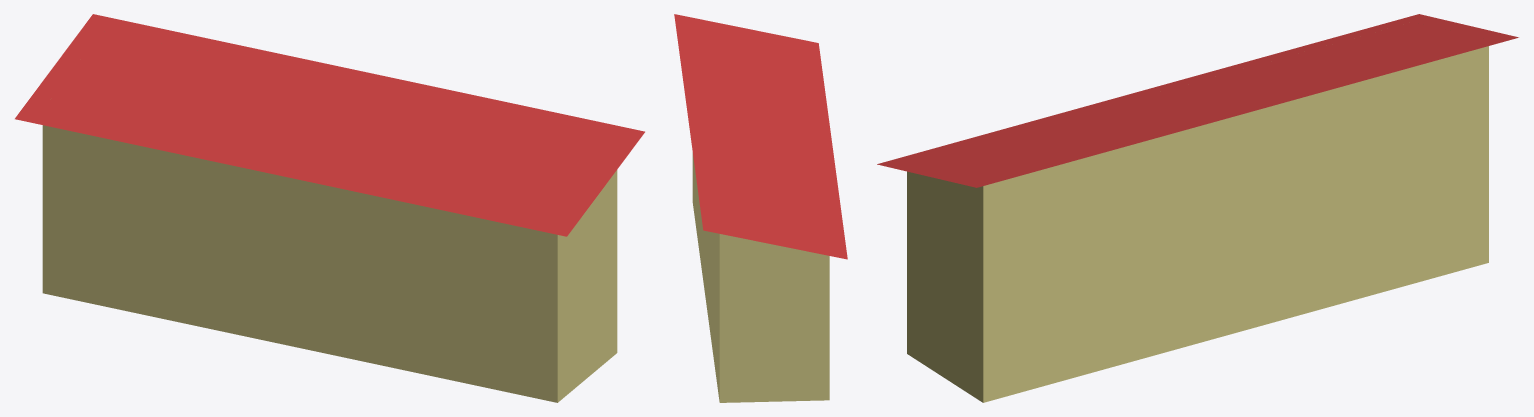
The picture shows the model from 3 angles, left to right: view 1: azimuth 30°, elevation 25°; view 2: azimuth 150°, elevation 25°; view 3: azimuth 270°, elevation 25°; orthographic projection. The views are drawn at different scales.
Size of the model in its own units: 11.56 by 14.61 by 5.71.
